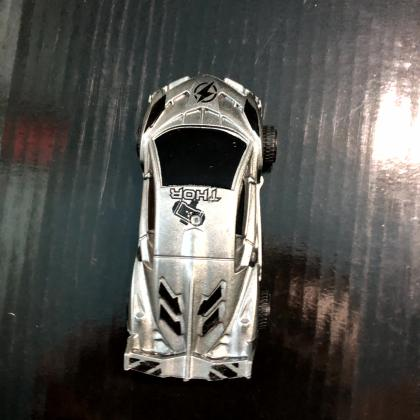Car: (122, 75, 275, 383)
